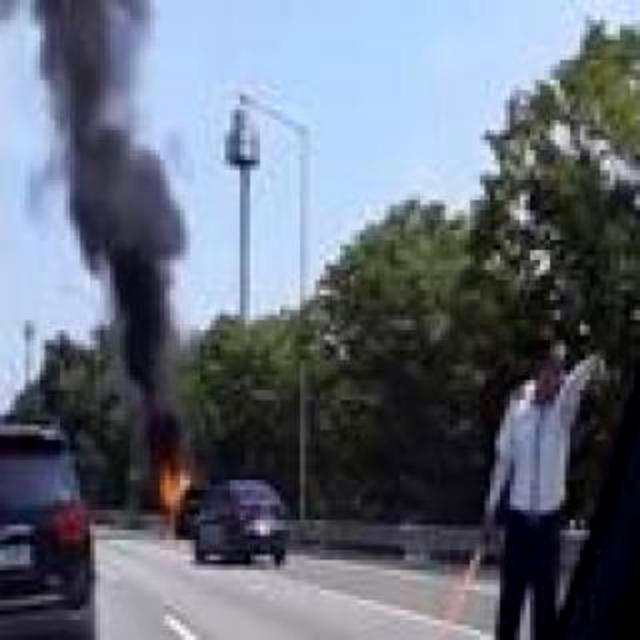fire: (158, 460, 182, 524)
smoke: (30, 0, 188, 494)
